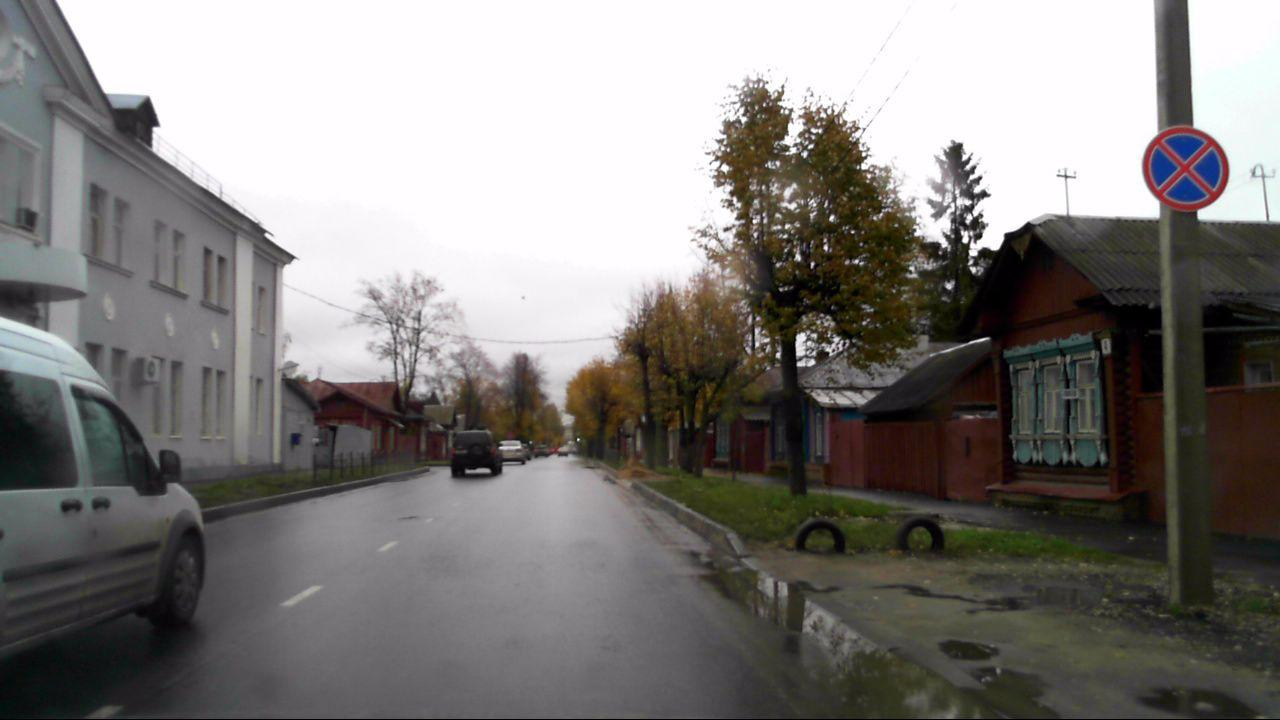3_27: (1144, 126, 1229, 211)
